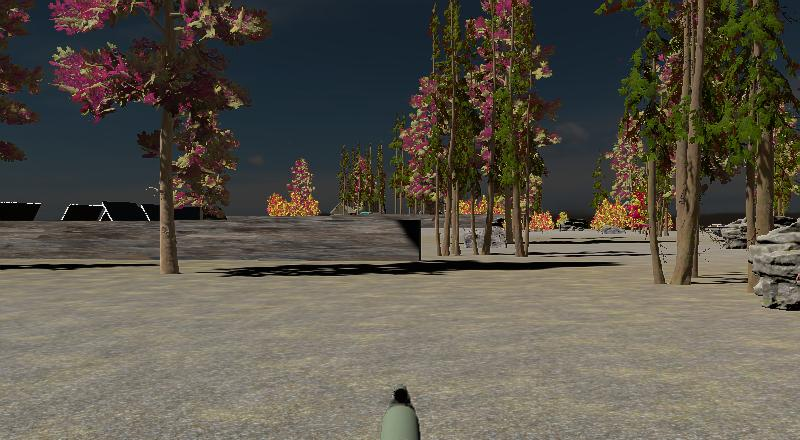Tank: (567, 217, 589, 231), (568, 218, 590, 230)
